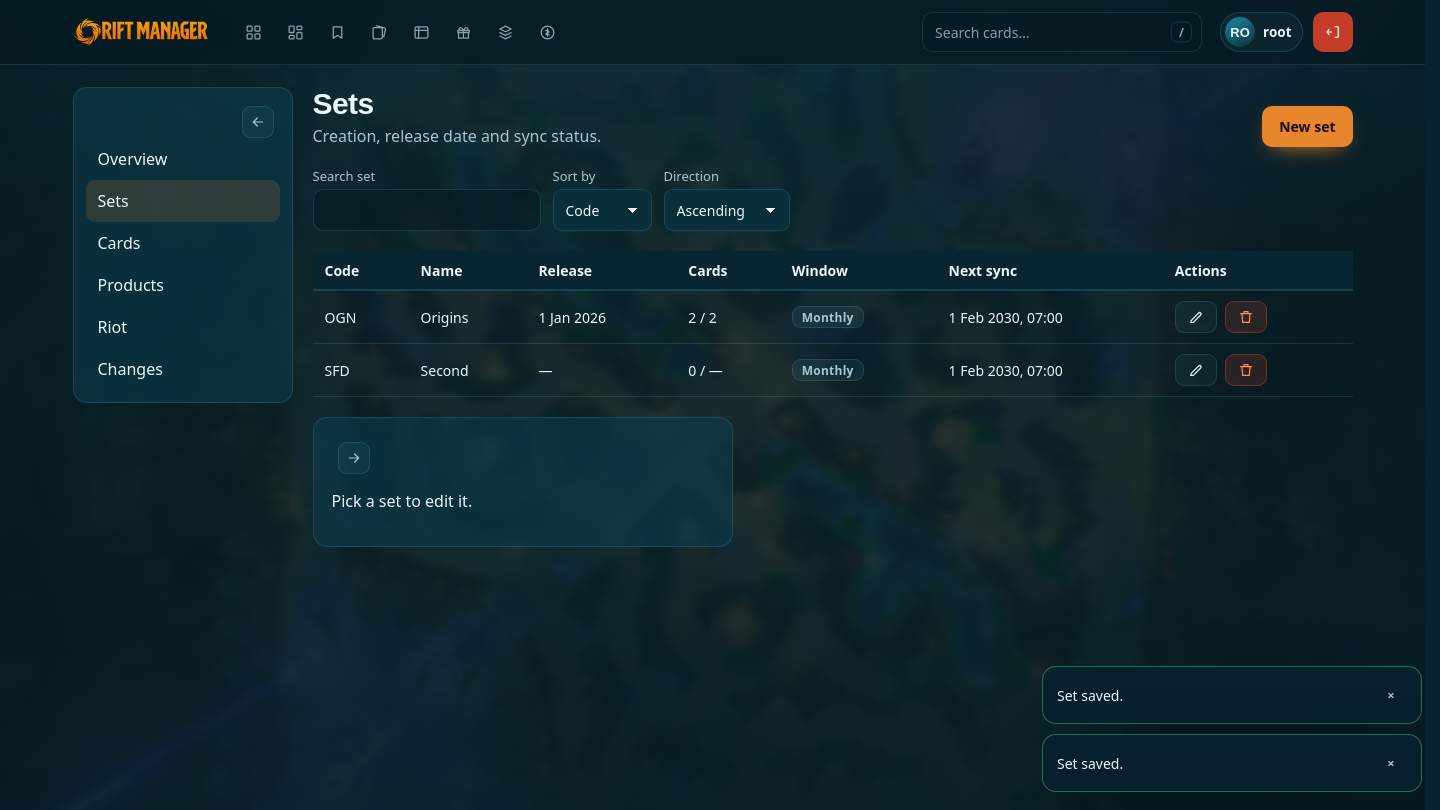
Scenario: SetsPage (F13-f S4-S6) › persistent editor panel at 1700 px
This screenshot has width=1440, height=810.
Expected: the text "Pick a set to edit it." is shown, [332,490,472,512]
Click the button named "Hide editor": [354, 458] box [338,442,370,474]
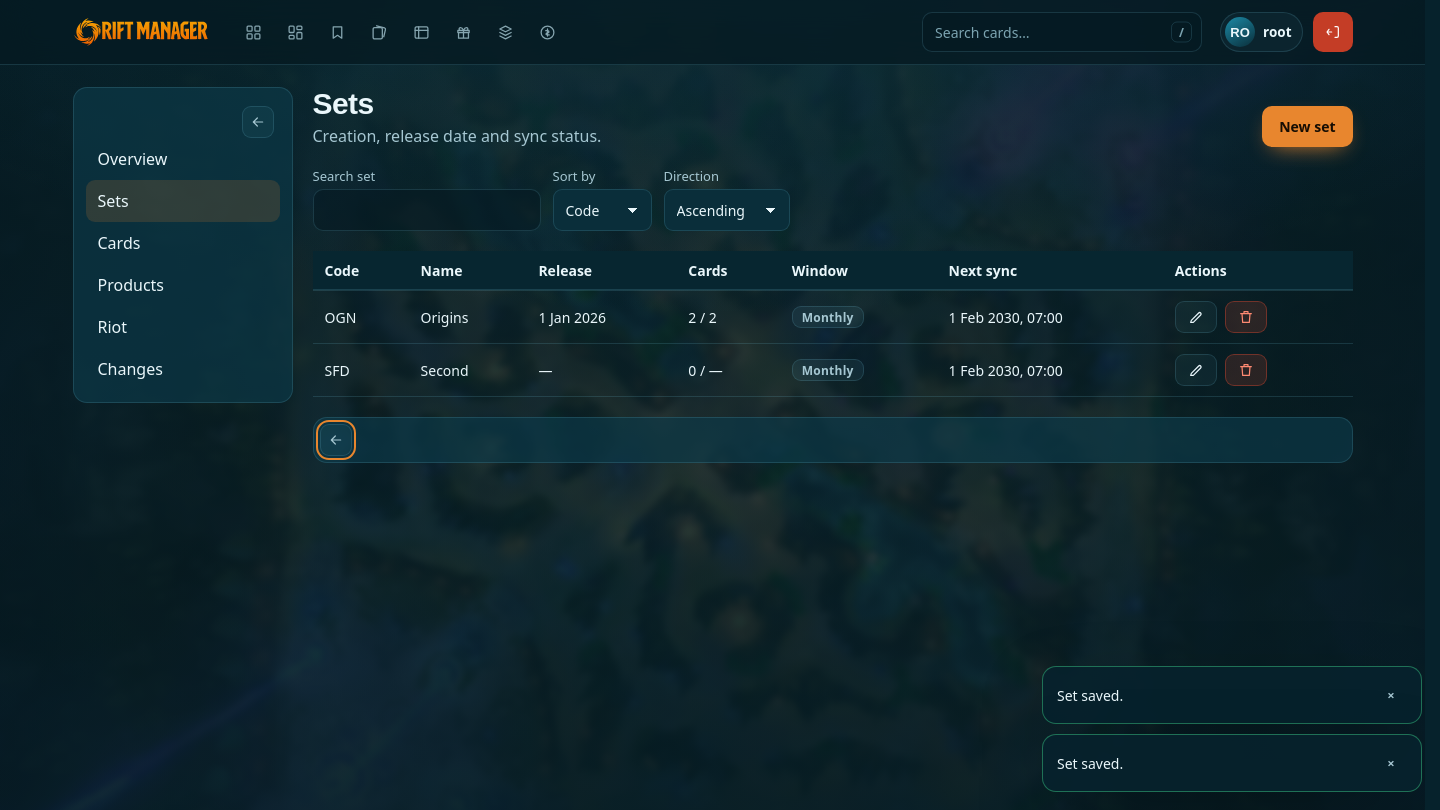
Expected: the button named "Show editor" is collapsed, [320,424,352,456]
Expected: the element named "Editor" has attribute data-collapsed, [312,417,1352,463]
